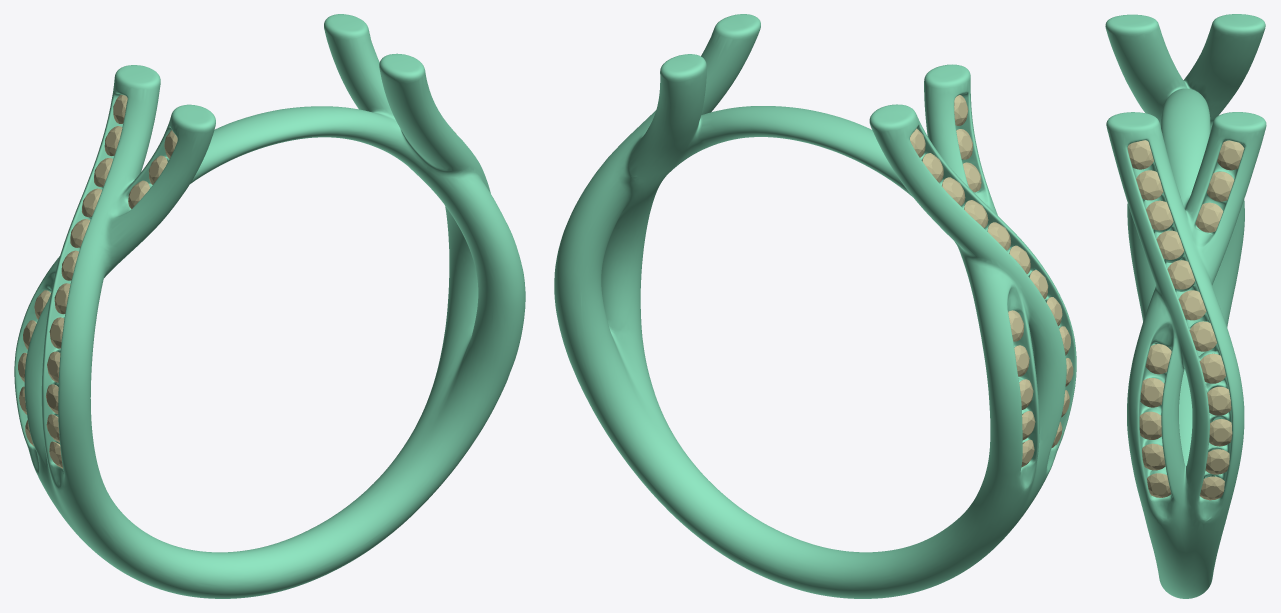
The picture shows the model from 3 angles, left to right: view 1: azimuth 30°, elevation 25°; view 2: azimuth 150°, elevation 25°; view 3: azimuth 270°, elevation 25°; orthographic projection. The views are drawn at different scales.
Parts seen in each view (by area): view 1: Metal02; view 2: Metal02; view 3: Metal02, Diamond_Gem.021, Diamond_Gem.009, Diamond_Gem.014, Diamond_Gem.013, Diamond_Gem.010, Diamond_Gem.022, Diamond_Gem.015, Diamond_Gem.030, Diamond_Gem.020, Diamond_Gem.012, Diamond_Gem.011 (+9 smaller).
Boxes of the visible parts, left/top/right/bottom form: Metal02: left=14, top=14, right=525, bottom=598; Metal02: left=554, top=14, right=1076, bottom=598; Metal02: left=1105, top=14, right=1266, bottom=598; Diamond_Gem.021: left=1206, top=171, right=1234, bottom=201; Diamond_Gem.009: left=1136, top=170, right=1163, bottom=200; Diamond_Gem.014: left=1189, top=321, right=1216, bottom=351; Diamond_Gem.013: left=1178, top=290, right=1206, bottom=320; Diamond_Gem.010: left=1146, top=200, right=1173, bottom=230; Diamond_Gem.022: left=1195, top=202, right=1223, bottom=232; Diamond_Gem.015: left=1200, top=353, right=1225, bottom=383; Diamond_Gem.030: left=1145, top=344, right=1171, bottom=374; Diamond_Gem.020: left=1217, top=140, right=1244, bottom=170; Diamond_Gem.012: left=1167, top=260, right=1194, bottom=289; Diamond_Gem.011: left=1156, top=230, right=1183, bottom=259.
Size of the model in its own units: 21.18 by 22.1 by 6.39.
